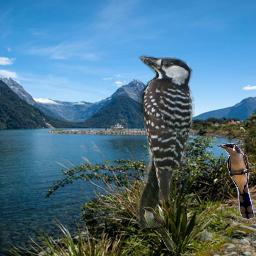Cuckoo: (217, 143, 255, 220), (141, 206, 176, 251)
Woodpecker: (135, 52, 196, 228)
